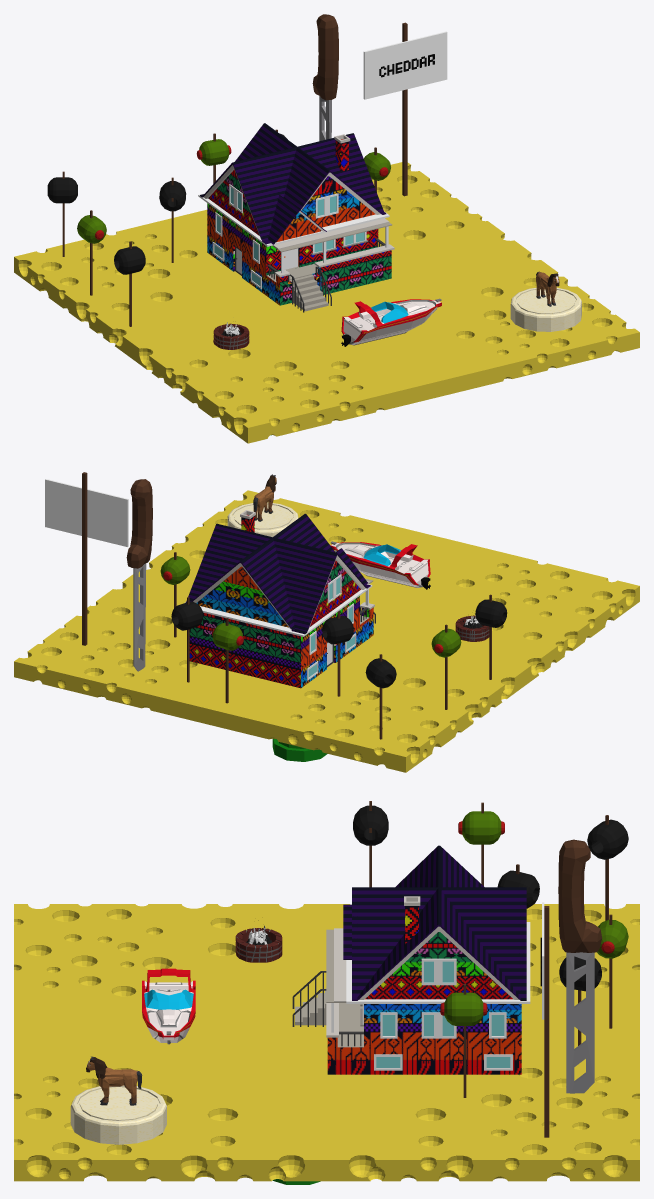
3 views of the same model, one above another, from view 1: azimuth 30°, elevation 25°; view 2: azimuth 150°, elevation 25°; view 3: azimuth 270°, elevation 25° (orthographic). The views are drawn at different scales.
Parts seen in each view (by area): view 1: Cube.022, Cube.966, Cube.023, VEHICLES_BOAT, Cylinder.016, Cube.024, Sphere.017, Sphere.016, OBJRANDOM_CAMPFIRE, Sphere.020, Sphere.018, Sphere.022 (+2 smaller); view 2: Cube.022, Cube.966, Cube.023, Cube.024, VEHICLES_BOAT, Cylinder.016, Sphere.020, Sphere.016, Sphere.022, Sphere.017, Sphere.021, Sphere.018 (+4 smaller); view 3: Cube.022, Cube.966, Cube.024, Cylinder.016, VEHICLES_BOAT, Cube.023, Sphere.019, Sphere.016, OBJRANDOM_CAMPFIRE, Sphere.018, Sphere.017, ANIMAL_CABALLO (+3 smaller).
Boxes of the visible parts, x1,y1,x2,y2 form: Cube.022: [14, 162, 639, 443]; Cube.966: [198, 123, 394, 312]; Cube.023: [363, 22, 447, 196]; VEHICLES_BOAT: [341, 298, 441, 346]; Cylinder.016: [510, 287, 581, 331]; Cube.024: [312, 14, 338, 141]; Sphere.017: [114, 241, 145, 326]; Sphere.016: [47, 171, 77, 256]; OBJRANDOM_CAMPFIRE: [213, 322, 249, 349]; Sphere.020: [159, 177, 186, 262]; Sphere.018: [77, 210, 106, 295]; Sphere.022: [196, 133, 231, 183]; Cube.022: [14, 490, 639, 772]; Cube.966: [185, 510, 375, 688]; Cube.023: [45, 472, 128, 645]; Cube.024: [126, 479, 152, 671]; VEHICLES_BOAT: [330, 541, 430, 589]; Cylinder.016: [227, 502, 298, 537]; Sphere.020: [322, 611, 353, 696]; Sphere.016: [365, 654, 396, 739]; Sphere.022: [212, 618, 243, 703]; Sphere.017: [475, 594, 507, 679]; Sphere.021: [171, 597, 203, 682]; Sphere.018: [431, 624, 461, 709]; Cube.022: [14, 904, 639, 1181]; Cube.966: [292, 845, 530, 1074]; Cube.024: [558, 839, 602, 1093]; Cylinder.016: [70, 1085, 166, 1144]; VEHICLES_BOAT: [142, 968, 195, 1044]; Cube.023: [540, 902, 549, 1137]; Sphere.019: [440, 984, 487, 1097]; Sphere.016: [587, 815, 628, 920]; OBJRANDOM_CAMPFIRE: [235, 920, 282, 962]; Sphere.018: [458, 802, 504, 885]; Sphere.017: [353, 801, 388, 887]; ANIMAL_CABALLO: [86, 1056, 142, 1105].
Size of the model in its own units: 3917 by 2590 by 4000.
39 materials, 7 textured.
